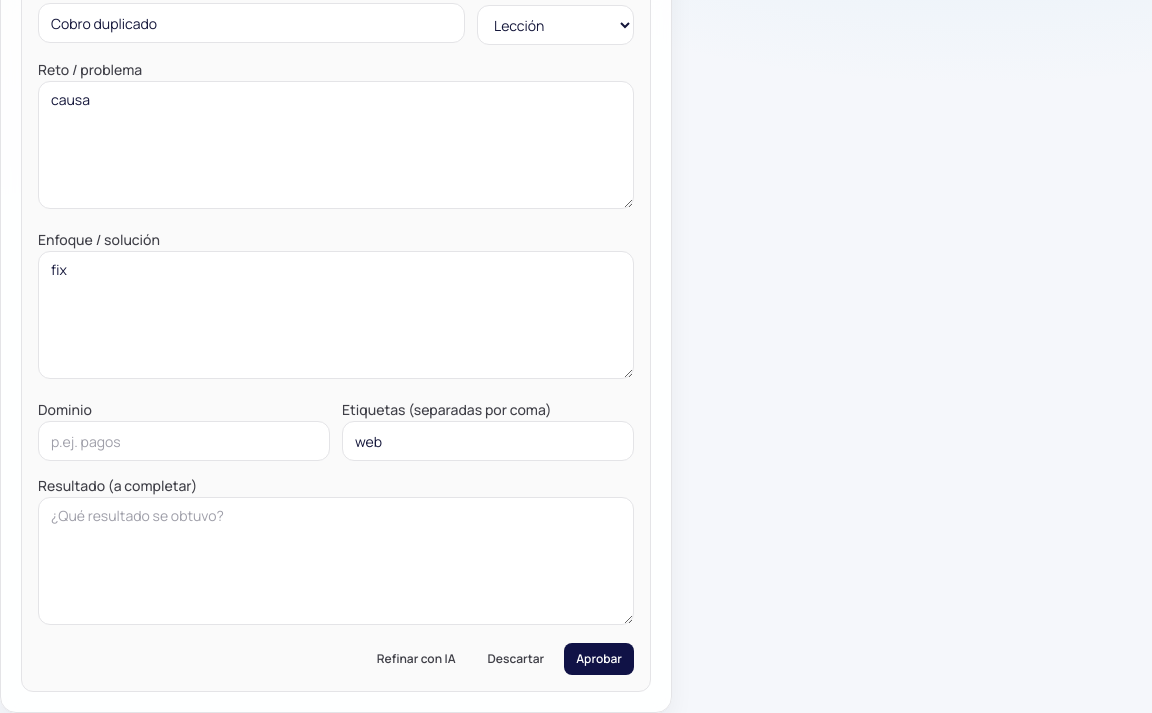
it: KnowledgeProposalsPanel › Refinar con IA actualiza la card con la respuesta
(page scrolled)
Expected: the field showing "Cobro duplicado" is shown, [38,3,465,43]
Click the button "Refinar con IA" at (416, 659), box [365,643,468,675]
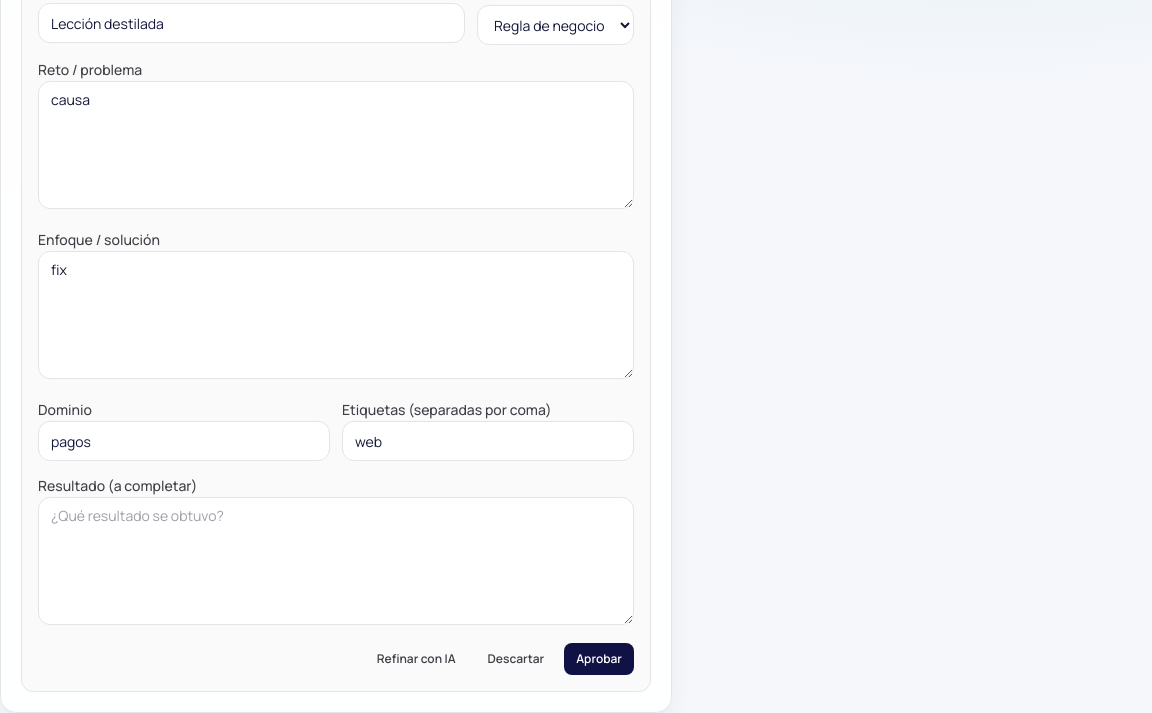
Expected: the field showing "pagos" is shown, [38,421,330,461]
Expected: the field showing "Lección destilada" is shown, [38,3,465,43]
